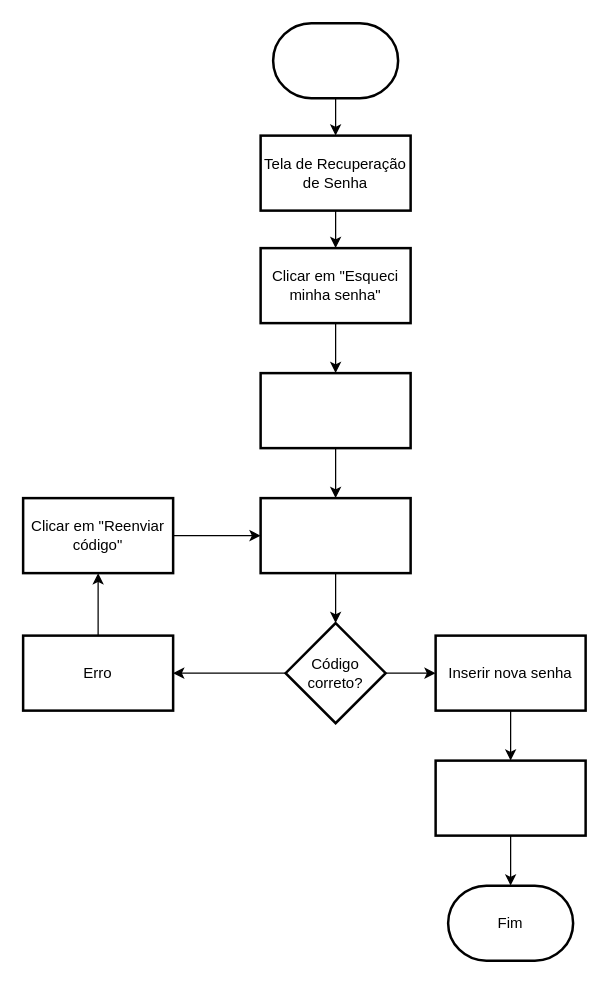
This 608x983 diagram has some shape labels left out. Here are the shapes that lost their labels. From the top down, the centre of each, then its label:
At pixel 335 60: "Início".
At pixel 335 410: "Enviar código".
At pixel 335 535: "Inserir código".
At pixel 510 797: "Tela de Login".
